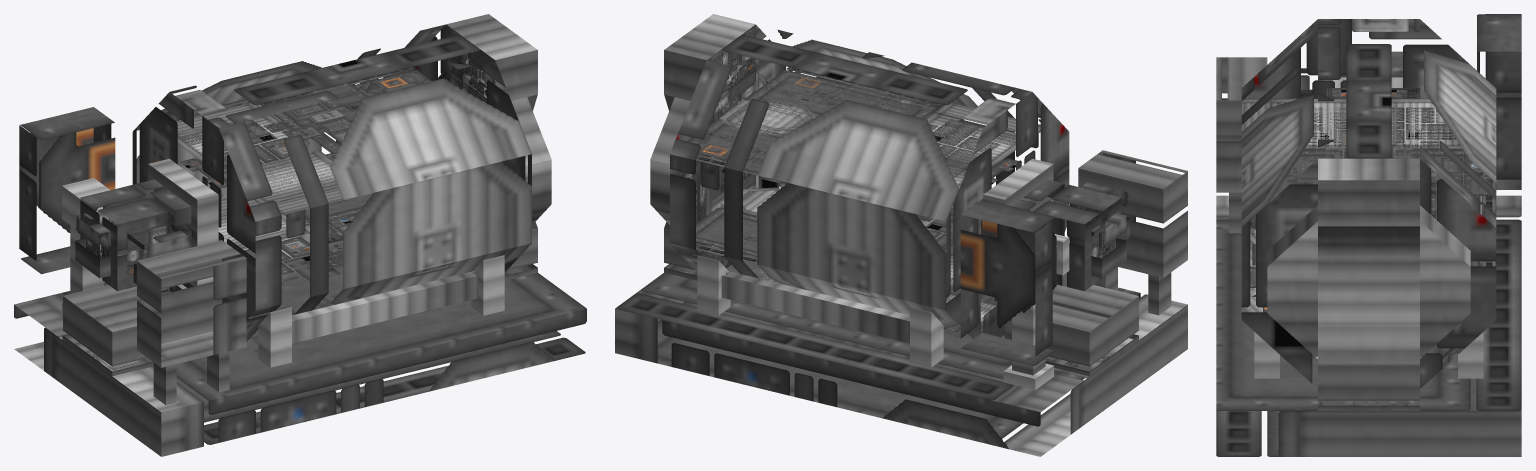
File: boiler_mirrored.obj
3 views of the same model, side by side, from view 1: azimuth 30°, elevation 25°; view 2: azimuth 150°, elevation 25°; view 3: azimuth 270°, elevation 25° (orthographic). The views are drawn at different scales.
Visible parts, largest first — view 1: base; view 2: base; view 3: base.
Boxes of the visible parts, <box> form: base: <box>14,14,586,456</box>; base: <box>615,14,1187,456</box>; base: <box>1216,14,1521,456</box>.
Bounding box in the file's own units: 5 × 3 × 3.
